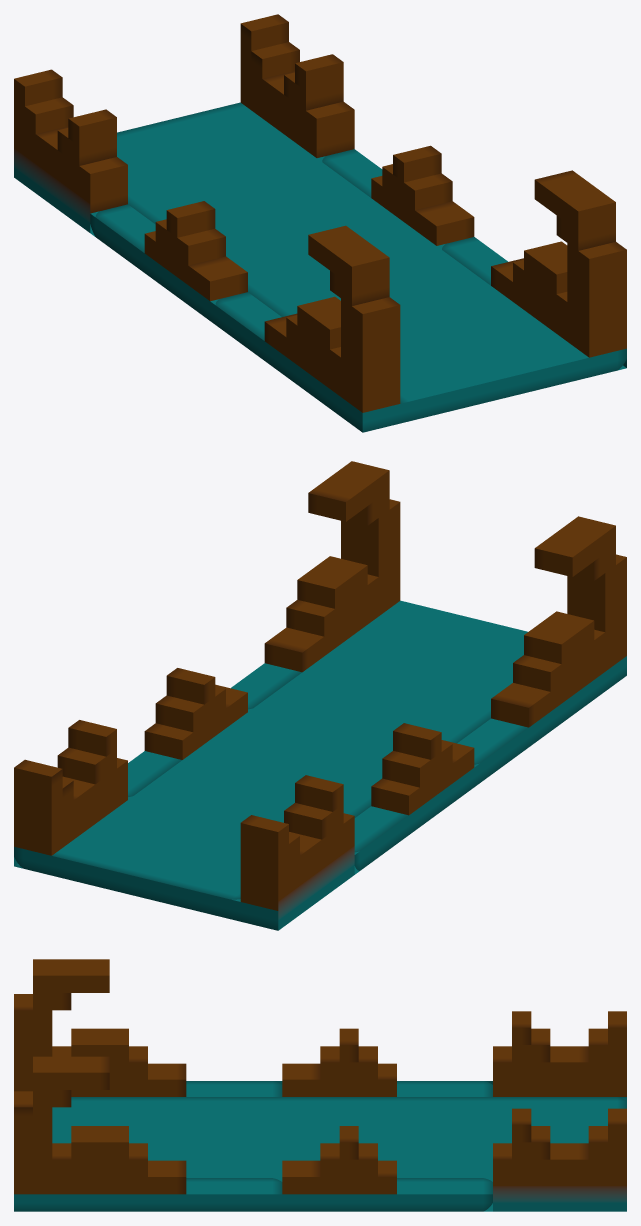
Rendered from Waterway1.dae.
The picture shows the model from 3 angles, top to bottom: view 1: azimuth 30°, elevation 25°; view 2: azimuth 150°, elevation 25°; view 3: azimuth 270°, elevation 25°; orthographic projection. The views are drawn at different scales.
Parts seen in each view (by area): view 1: Waterway1; view 2: Waterway1; view 3: Waterway1.
Part boxes in pixels (<box>): Waterway1: <box>14,14,626,432</box>; Waterway1: <box>14,461,626,930</box>; Waterway1: <box>14,959,626,1211</box>.
Bounding box in the file's own units: 14 × 8 × 32.
Materials: 1 (1 with a texture image).
